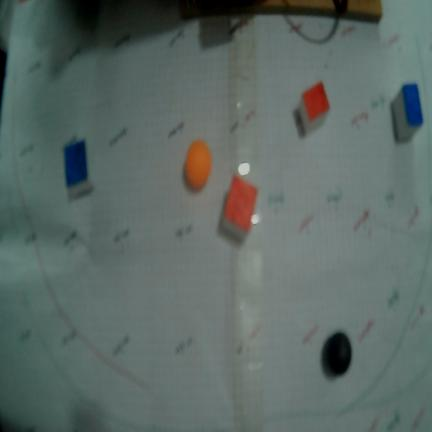circle_blue: (322, 332, 352, 379)
circle_orange: (185, 141, 211, 190)
rectangle_blue: (402, 85, 423, 126)
rectangle_orange: (303, 83, 328, 123)
square_blue: (65, 141, 87, 188)
square_orange: (223, 177, 255, 234)
